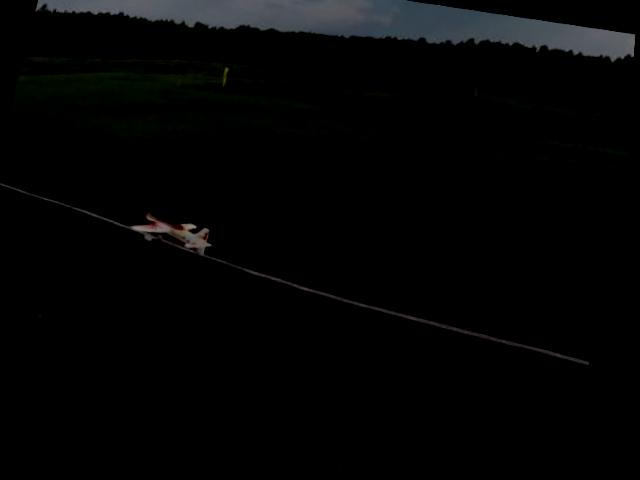uav: (121, 193, 230, 269)
